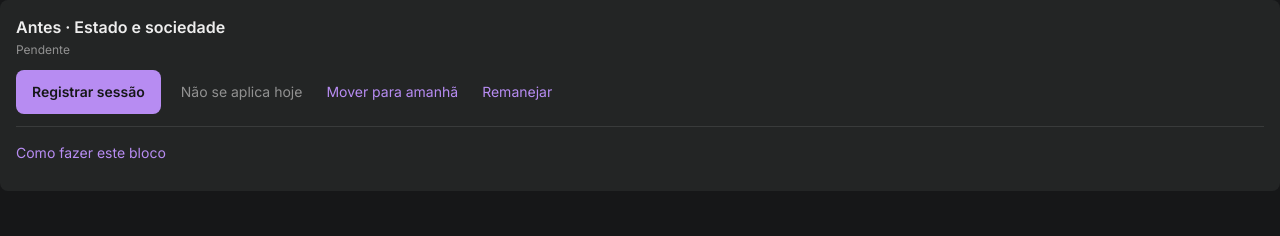
Test: gravações com falha visível › mostra o erro quando marcar "não se aplica" falha
What coordinates should you click on to do the following:
click the button "Não se aplica hoje"
I would click on:
 (242, 92)
Its box is [169,70,314,114].
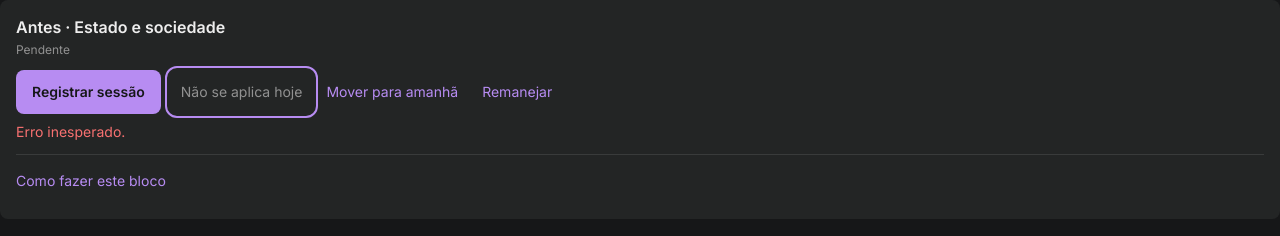
Now the message reads "Erro inesperado.", box [16,123,125,140]
